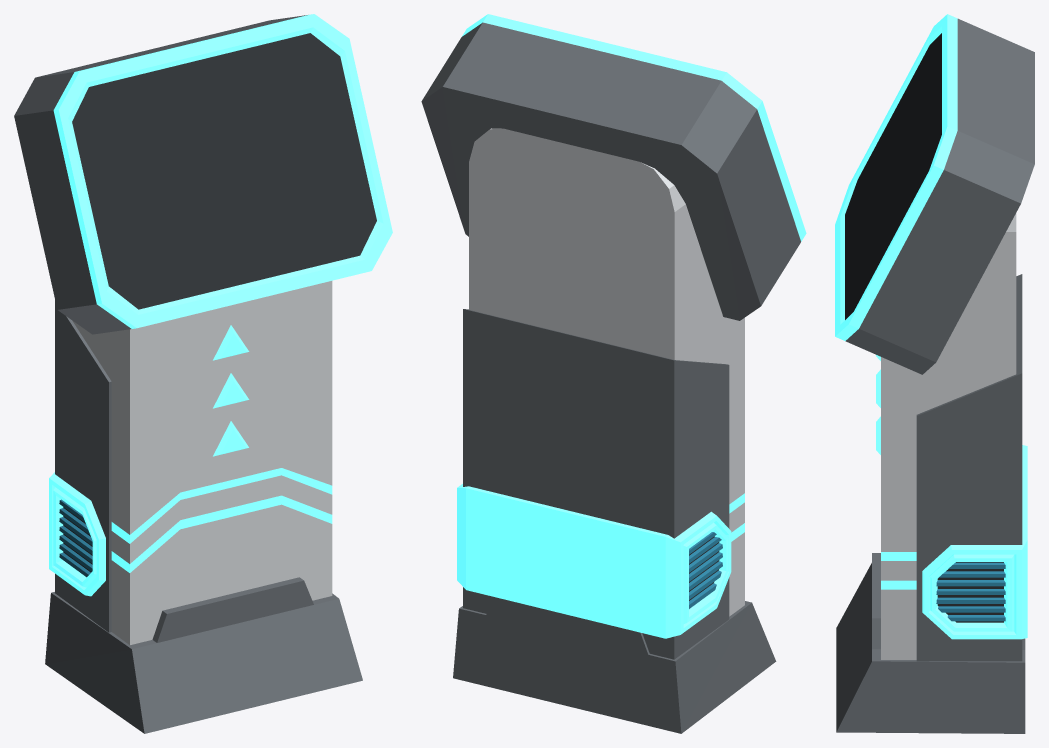
File: computer_small--3bhZrmB.glb
3 views of the same model, side by side, from view 1: azimuth 30°, elevation 25°; view 2: azimuth 150°, elevation 25°; view 3: azimuth 270°, elevation 25° (orthographic). The views are drawn at different scales.
Parts seen in each view (by area): view 1: Props_ComputerSmall; view 2: Props_ComputerSmall; view 3: Props_ComputerSmall.
Part boxes in pixels (x1,y1,x2,y2): Props_ComputerSmall: (14,14,392,733); Props_ComputerSmall: (421,14,806,733); Props_ComputerSmall: (835,14,1034,733).
Size of the model in its own units: 0.7512 by 1.54 by 0.4564.
